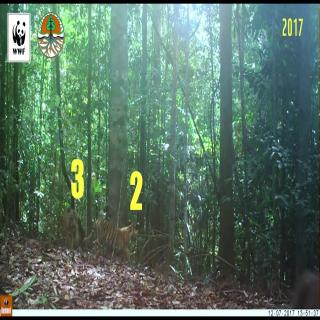Tiger: (90, 210, 144, 266), (58, 199, 82, 247)
